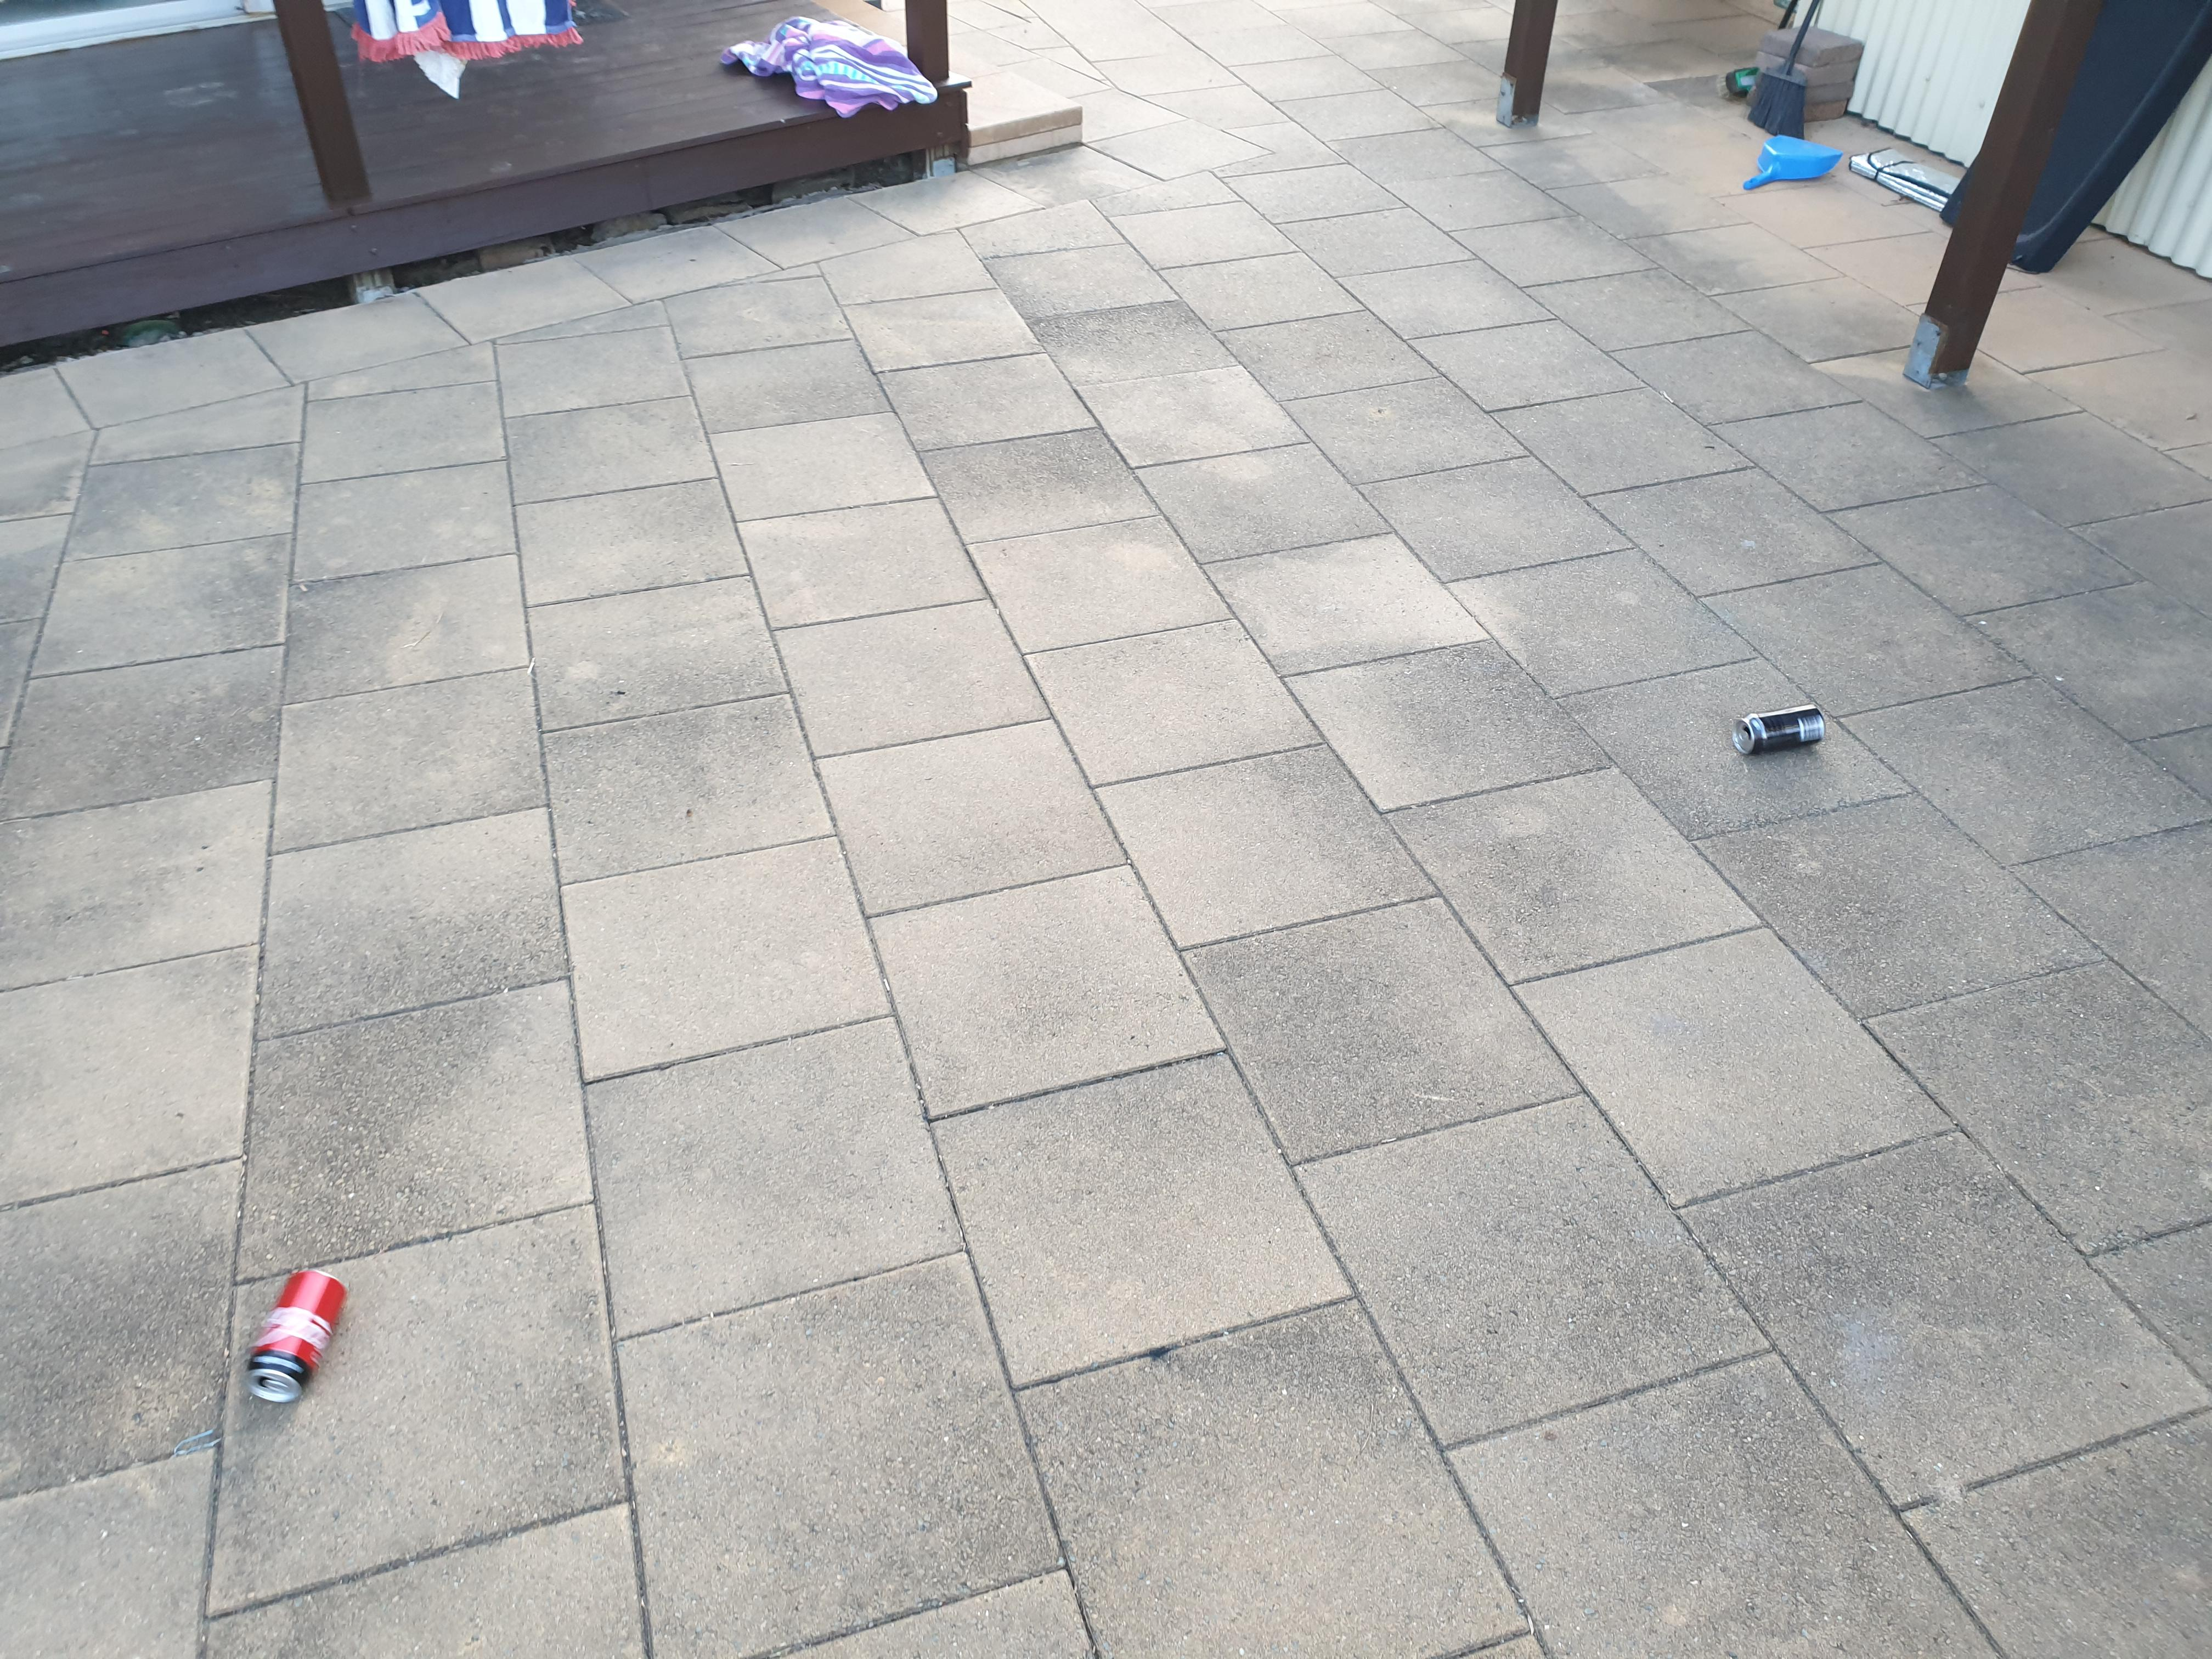Plastic Bottle: (246, 1269, 348, 1403), (1733, 704, 1825, 753)
